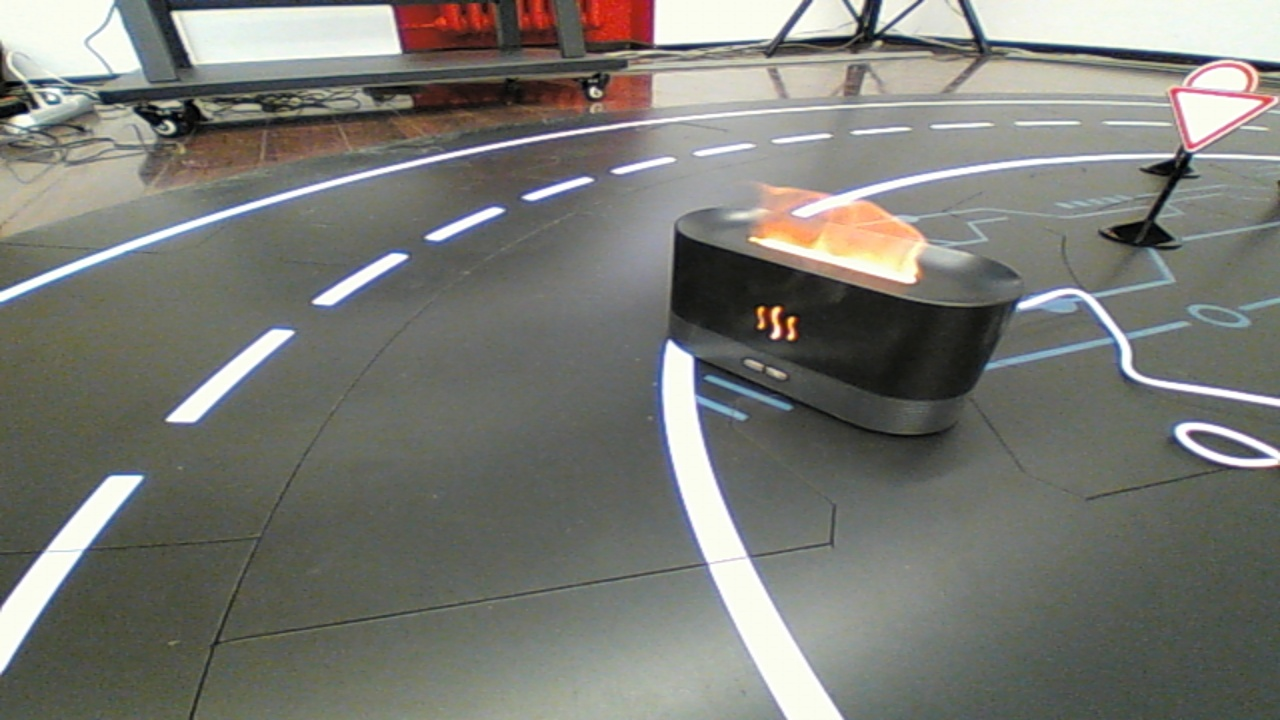Movement prohibition: (653, 189, 1050, 451)
